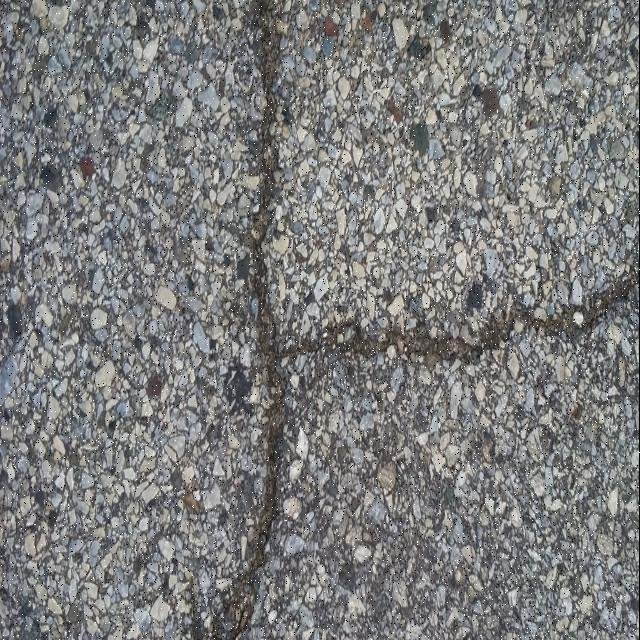Crack: (214, 0, 640, 640)
